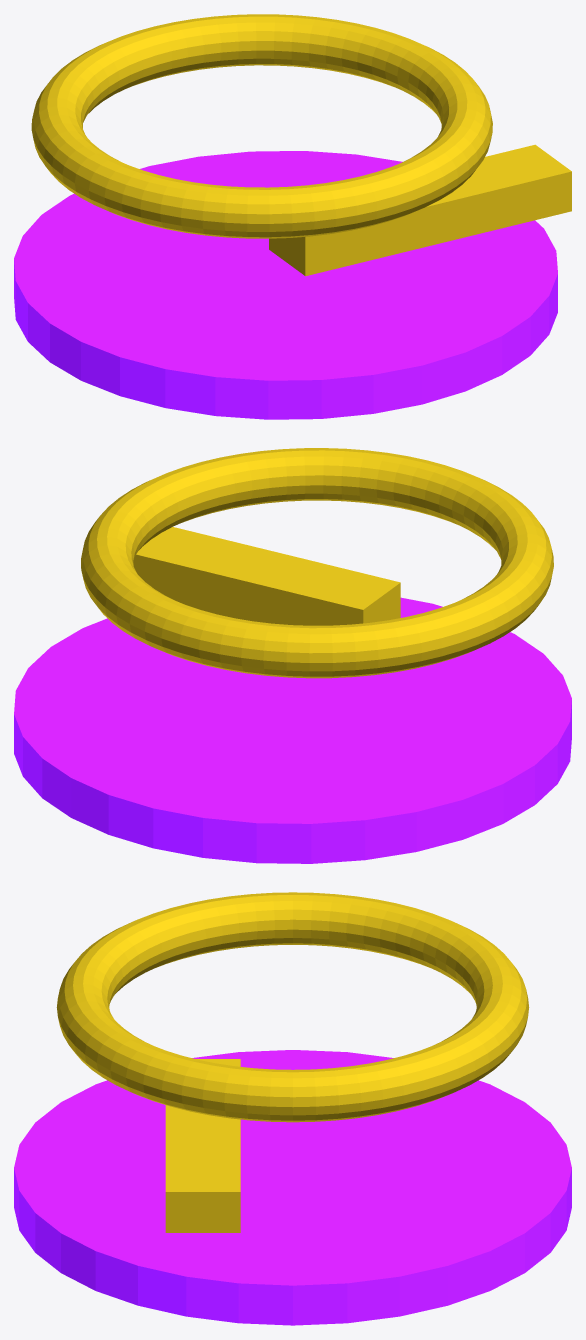
Rendered from modelling_measuring_tape.dae.
3 views of the same model, one above another, from view 1: azimuth 30°, elevation 25°; view 2: azimuth 150°, elevation 25°; view 3: azimuth 270°, elevation 25° (orthographic). The views are drawn at different scales.
Visible parts, largest first — view 1: 05_12_Popular_Modelling_Measuring_Tape_ROOT_base, 05_12_Popular_Modelling_Measuring_Tape_part_01, 05_12_Popular_Modelling_Measuring_Tape_part_02; view 2: 05_12_Popular_Modelling_Measuring_Tape_ROOT_base, 05_12_Popular_Modelling_Measuring_Tape_part_01, 05_12_Popular_Modelling_Measuring_Tape_part_02; view 3: 05_12_Popular_Modelling_Measuring_Tape_ROOT_base, 05_12_Popular_Modelling_Measuring_Tape_part_01, 05_12_Popular_Modelling_Measuring_Tape_part_02.
Boxes of the visible parts, box(x1,y1,x2,y2) form: 05_12_Popular_Modelling_Measuring_Tape_ROOT_base: box(14, 151, 557, 419); 05_12_Popular_Modelling_Measuring_Tape_part_01: box(31, 14, 492, 238); 05_12_Popular_Modelling_Measuring_Tape_part_02: box(269, 144, 571, 276); 05_12_Popular_Modelling_Measuring_Tape_ROOT_base: box(14, 597, 571, 863); 05_12_Popular_Modelling_Measuring_Tape_part_01: box(81, 448, 553, 678); 05_12_Popular_Modelling_Measuring_Tape_part_02: box(133, 527, 400, 625); 05_12_Popular_Modelling_Measuring_Tape_ROOT_base: box(14, 1050, 571, 1325); 05_12_Popular_Modelling_Measuring_Tape_part_01: box(56, 892, 529, 1122); 05_12_Popular_Modelling_Measuring_Tape_part_02: box(165, 1059, 240, 1232).
Size of the model in its own units: 0.76 by 0.3189 by 0.76.
